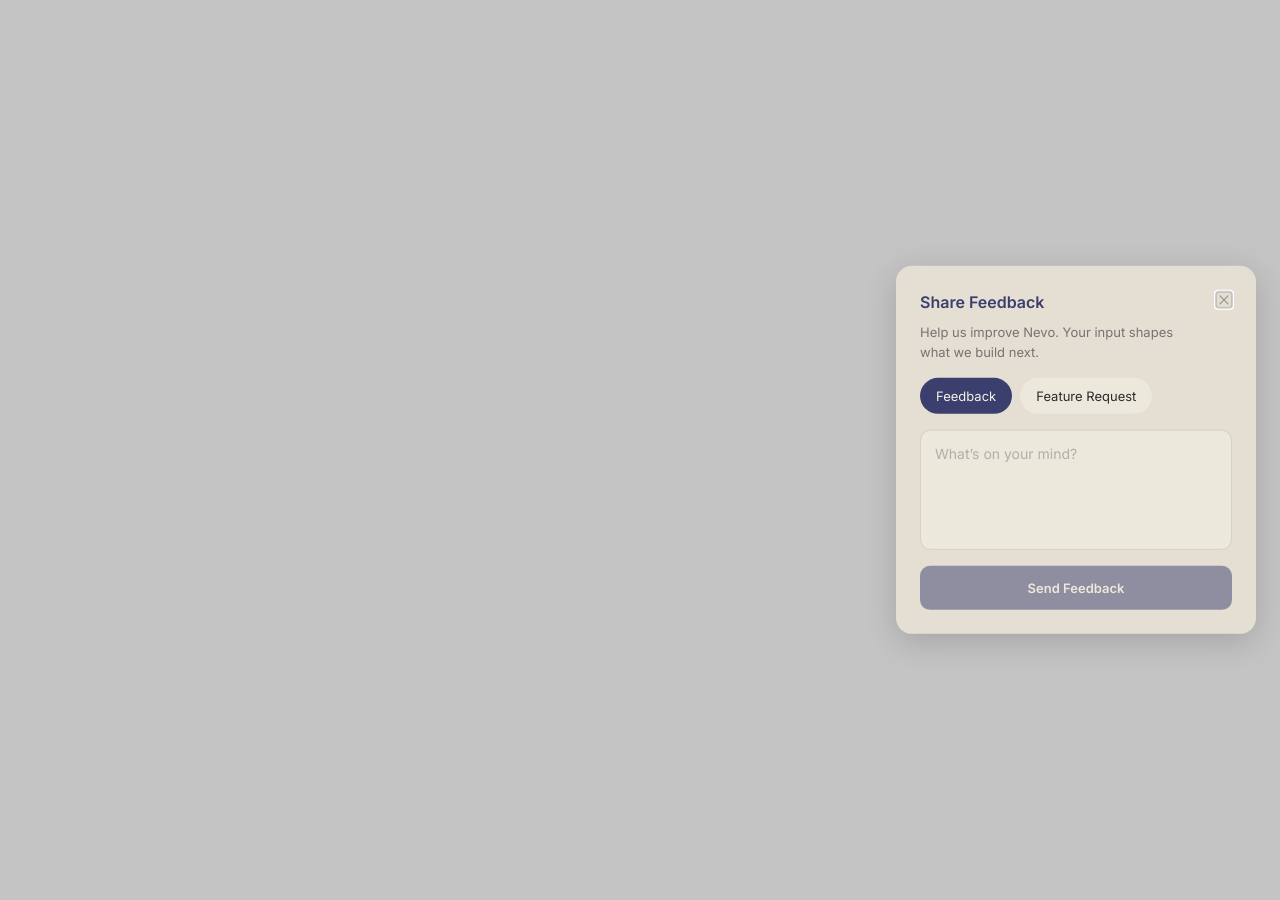
Test: feedback that could not be sent › asks for an edit, not a wait, when the note itself was refused
The image size is (1280, 900).
Type "The upload screen froze." into the text box named "Your feedback" at x=1076, y=490, box 920,430 -> 1232,550
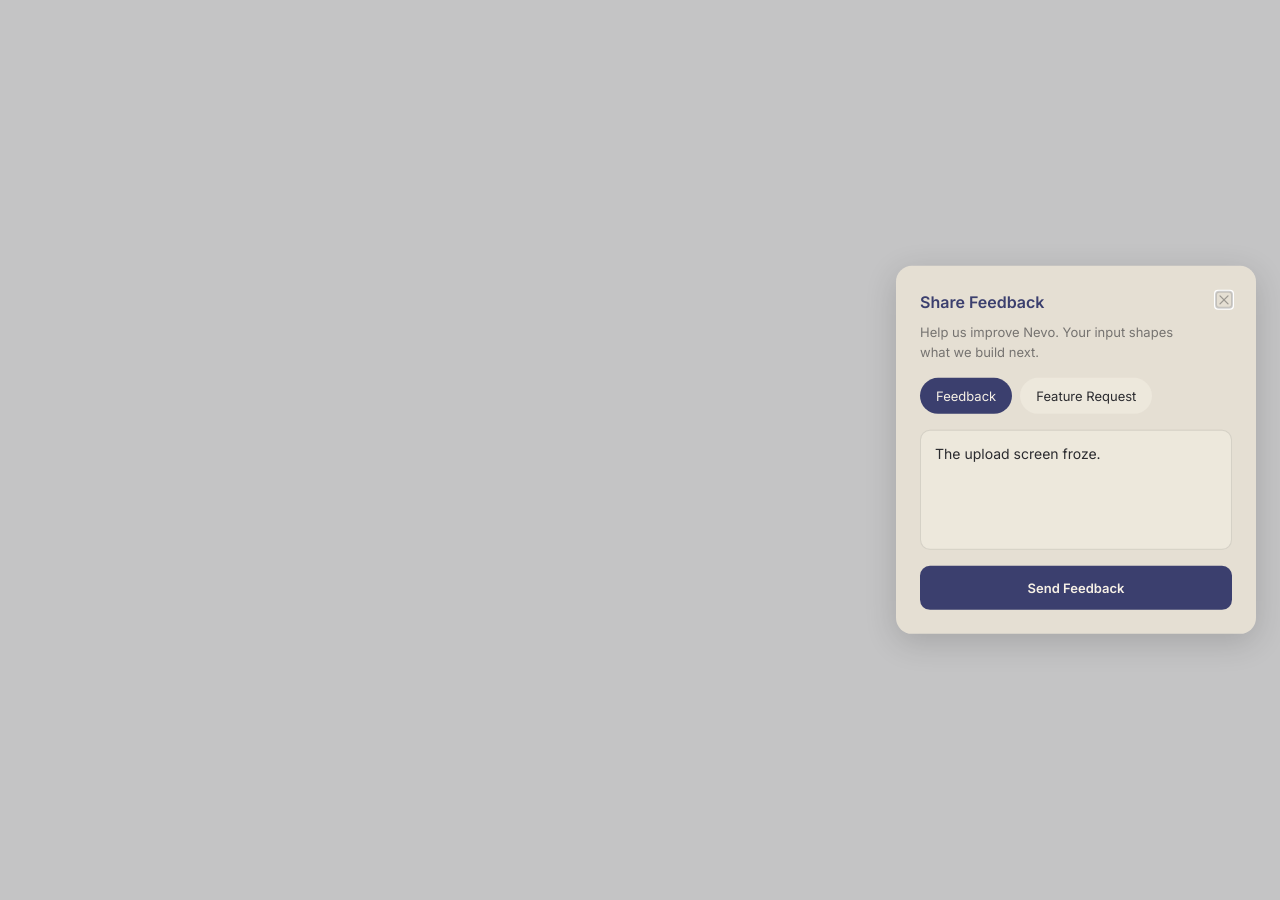
Click the button "Send Feedback" at x=1076, y=588, box 920,566 -> 1232,610
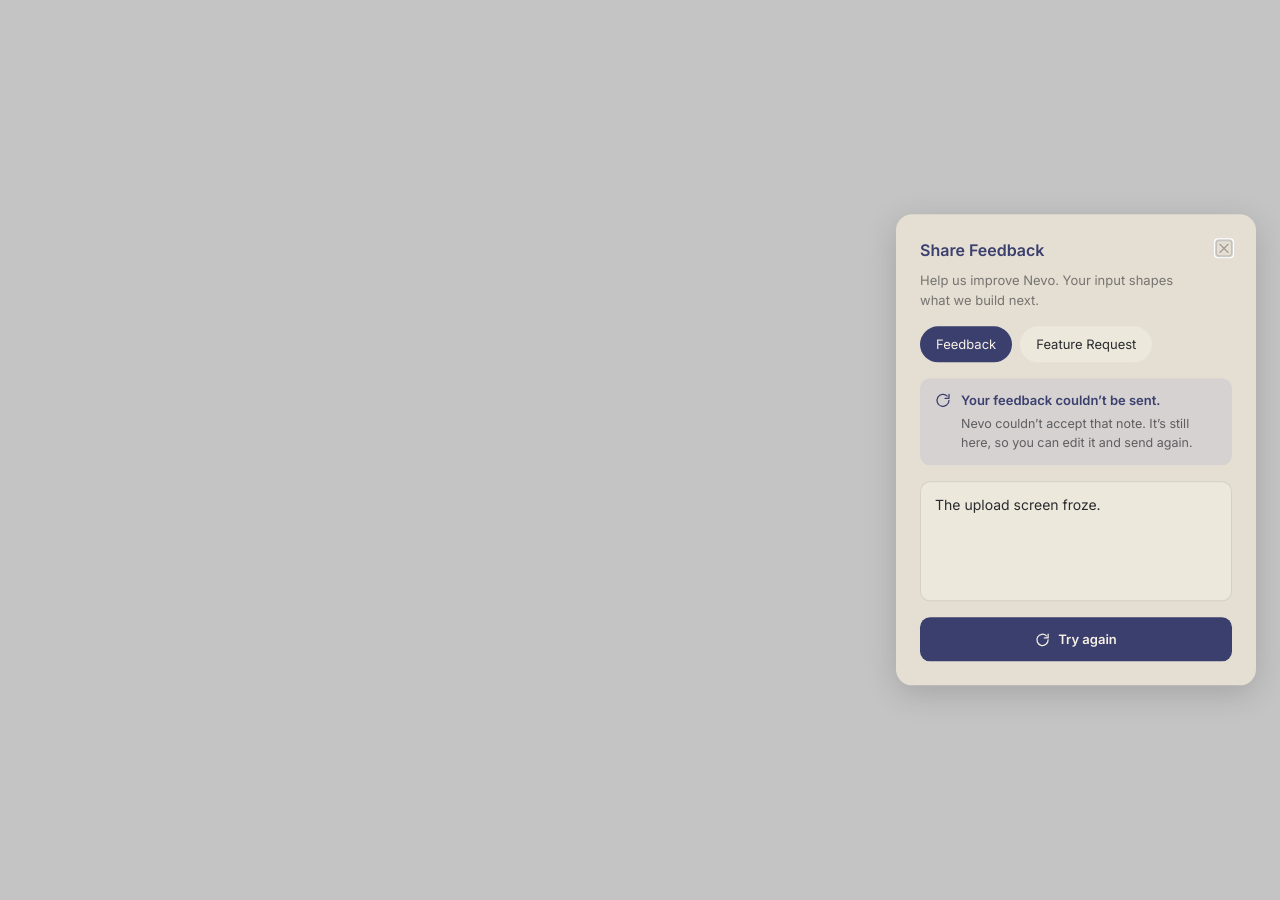
Expected: the message does not show "another try in a moment", 920,379 -> 1232,466
Now the message shows "Your feedback couldn’t be sent.", box 961,393 -> 1160,409
Now the message shows "edit it and send again", box 961,416 -> 1192,450
